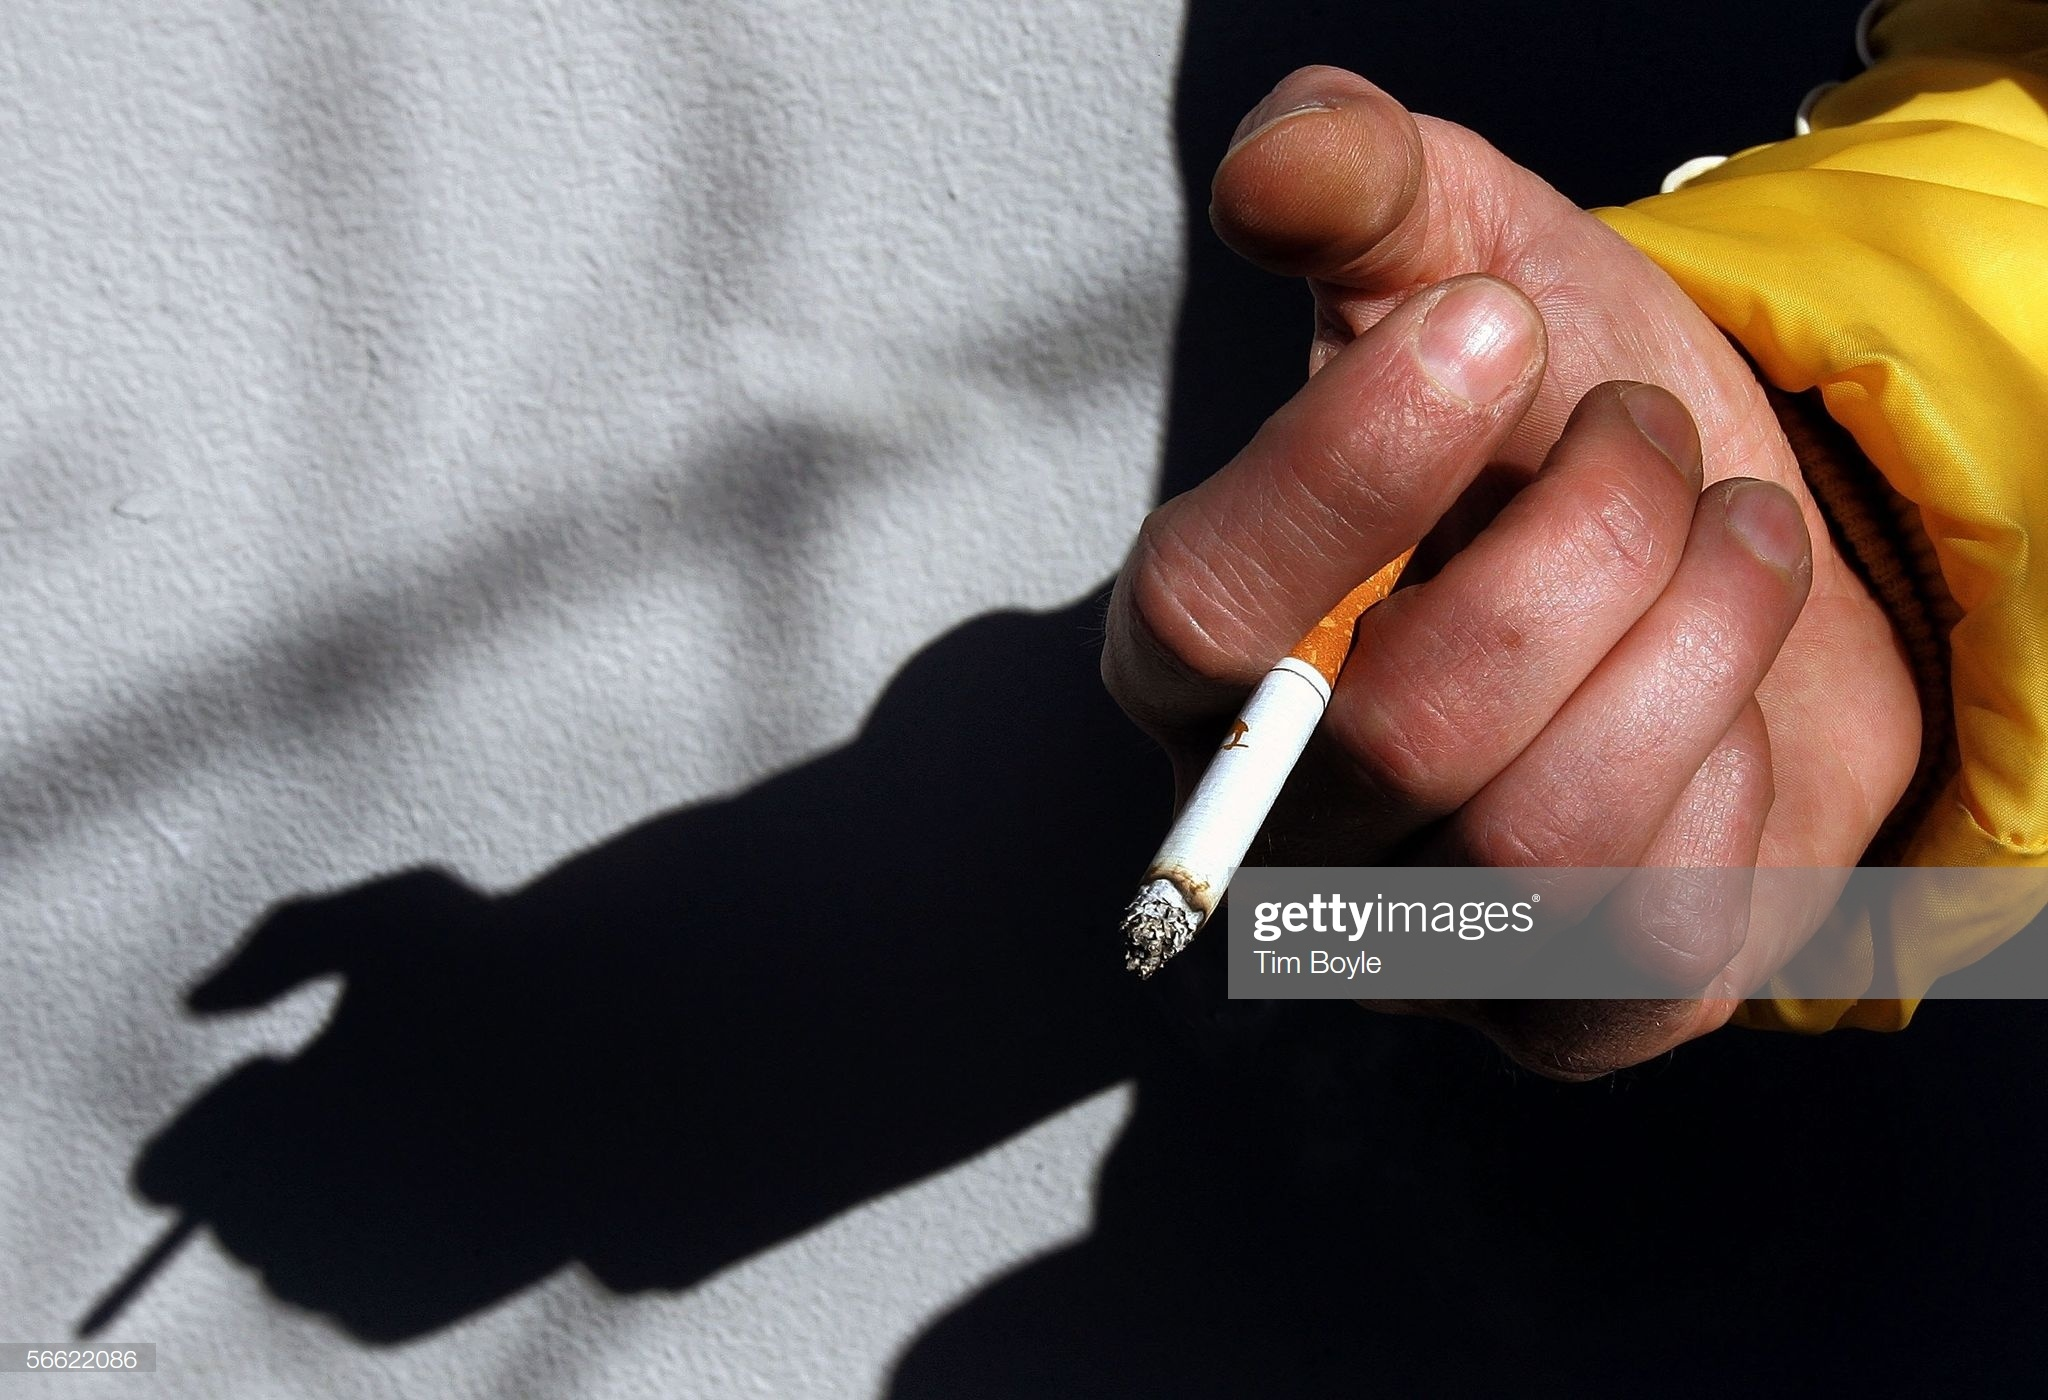sigaretta: (1102, 515, 1432, 961)
